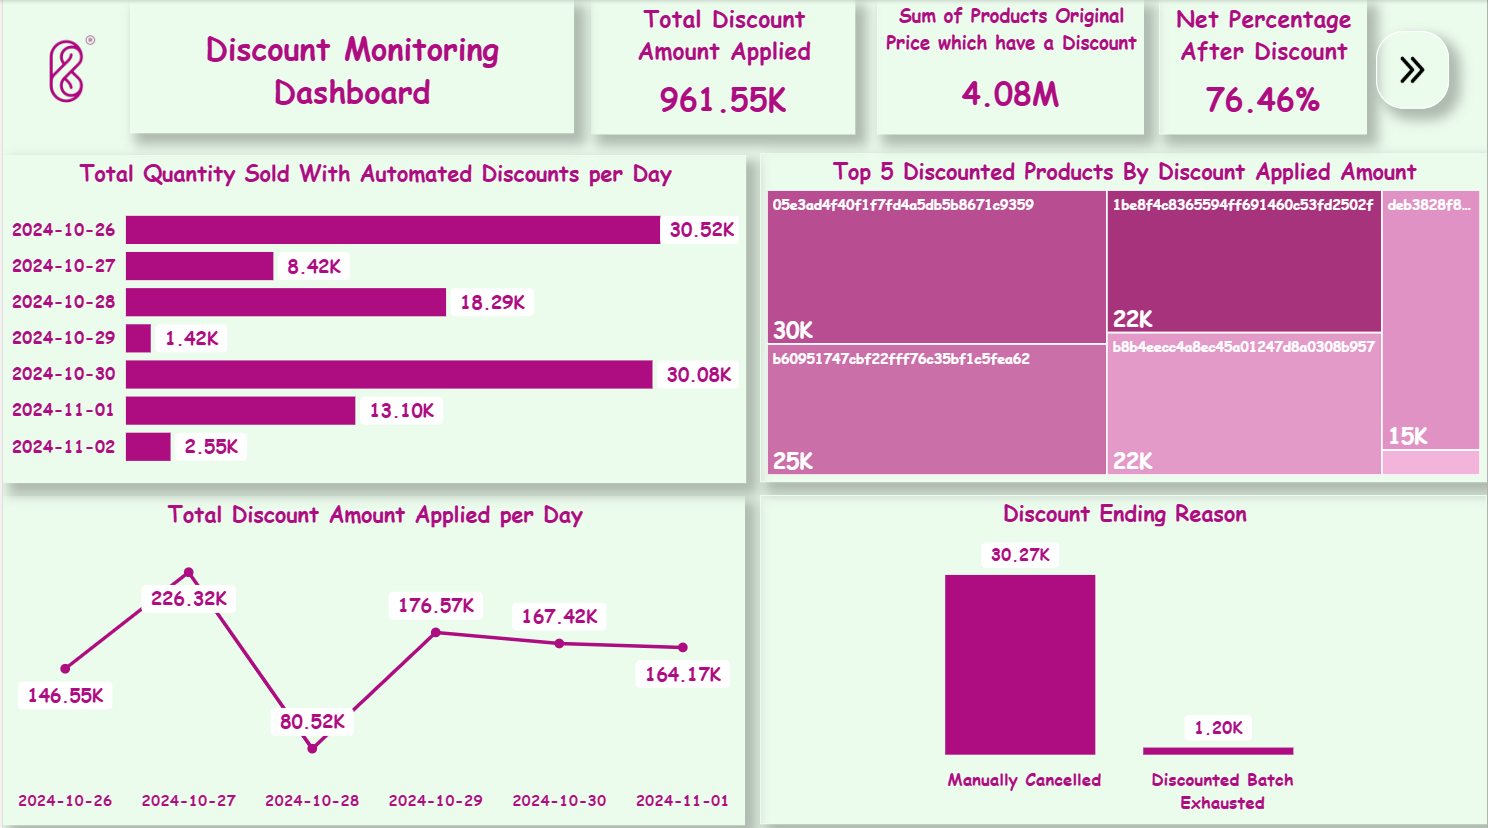

The dashboard page shown, as its layout file describes it:
{"tool":"powerbi","page":{"name":"Discount Monitoring Dashboard","canvas":[1280,720],"ordinal":0},"visuals":[{"type":"image","box":[0,0,109.4,115.3],"z":0},{"type":"card","title":"Total Discount Amount Applied","fields":{"Values":["Sum(fct_automated_fps_products_discounts.automated_discount_applied_amount)"]},"box":[507,0,228,116],"z":1000},{"type":"lineChart","title":"Total Discount Amount Applied per Day","fields":{"Category":["fct_automated_fps_products_discounts.Date"],"Y":["Sum(fct_automated_fps_products_discounts.automated_discount_applied_amount)"]},"box":[0,427.4,640,283.8],"z":2000},{"type":"textbox","box":[109.4,0,383.3,115.3],"z":3000},{"type":"clusteredBarChart","title":"Total Quantity Sold With Automated Discounts per Day","fields":{"Category":["fct_daily_cost_of_automatically_discounted_products.Date"],"Y":["Sum(fct_daily_cost_of_automatically_discounted_products.product_qty_sold_with_automated_discounts)"]},"box":[0,133.5,640.6,282.9],"z":4000},{"type":"treemap","title":"Top 5 Discounted Products By Discount Applied Amount","fields":{"Group":["fct_automated_fps_products_discounts.product_key"],"Values":["Sum(fct_automated_fps_products_discounts.automated_discount_applied_amount)"]},"box":[652.8,132,627.2,283.8],"z":5000},{"type":"card","title":"Sum of Products Original Price which have a Discount","fields":{"Values":["Sum(fct_automated_fps_products_discounts.original_price)"]},"box":[754,0,230,116],"z":6000},{"type":"card","title":"Net Percentage After Discount","fields":{"Values":["fct_automated_fps_products_discounts.Percentage After Discount"]},"box":[997,0,179,116],"z":7000},{"type":"columnChart","title":"Discount Ending Reason","fields":{"Category":["fct_automated_fps_products_discounts.discount_ending_reason"],"Y":["CountNonNull(fct_automated_fps_products_discounts.automated_applied_discount_key)"]},"box":[653,427,627,284],"z":8000},{"type":"image","box":[1184,27,63,67],"z":9000}]}

Visuals, with their boxes in screenshot pixels (x1, y1, x2, y2), scaled from the page's 1280x720 canvas onto the 1488x828 screenshot:
image: l=0, t=0, r=127, b=133
"Total Discount Amount Applied" card: l=589, t=0, r=854, b=133
"Total Discount Amount Applied per Day" lineChart: l=0, t=492, r=744, b=818
textbox: l=127, t=0, r=573, b=133
"Total Quantity Sold With Automated Discounts per Day" clusteredBarChart: l=0, t=154, r=745, b=479
"Top 5 Discounted Products By Discount Applied Amount" treemap: l=759, t=152, r=1487, b=478
"Sum of Products Original Price which have a Discount" card: l=877, t=0, r=1144, b=133
"Net Percentage After Discount" card: l=1159, t=0, r=1367, b=133
"Discount Ending Reason" columnChart: l=759, t=491, r=1487, b=818
image: l=1376, t=31, r=1450, b=108
